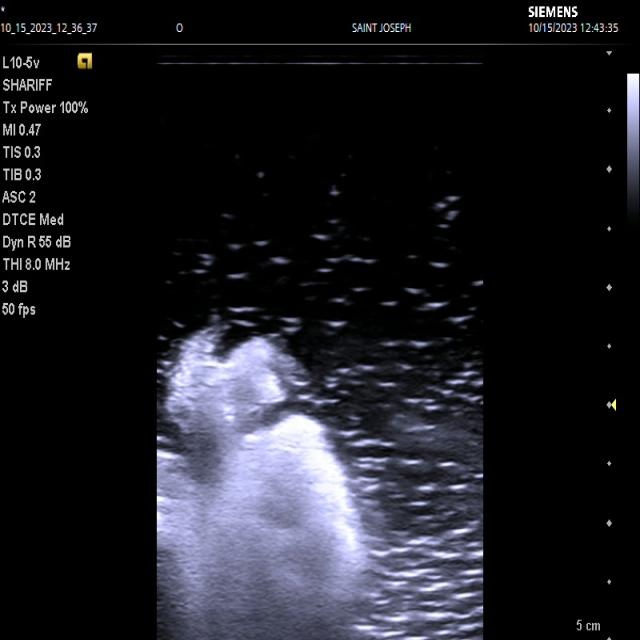tissue: (157, 326, 366, 639)
